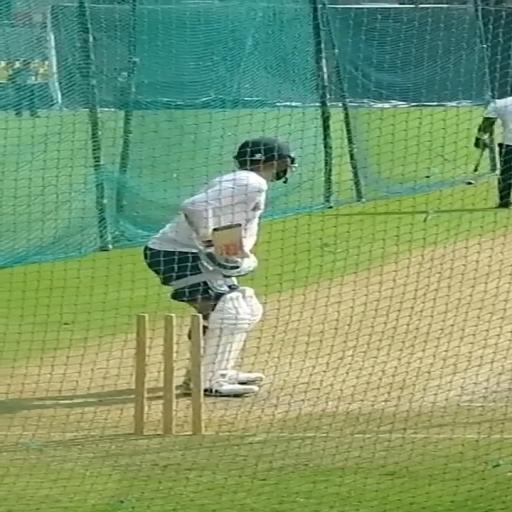Cricket bat: (212, 224, 244, 257)
